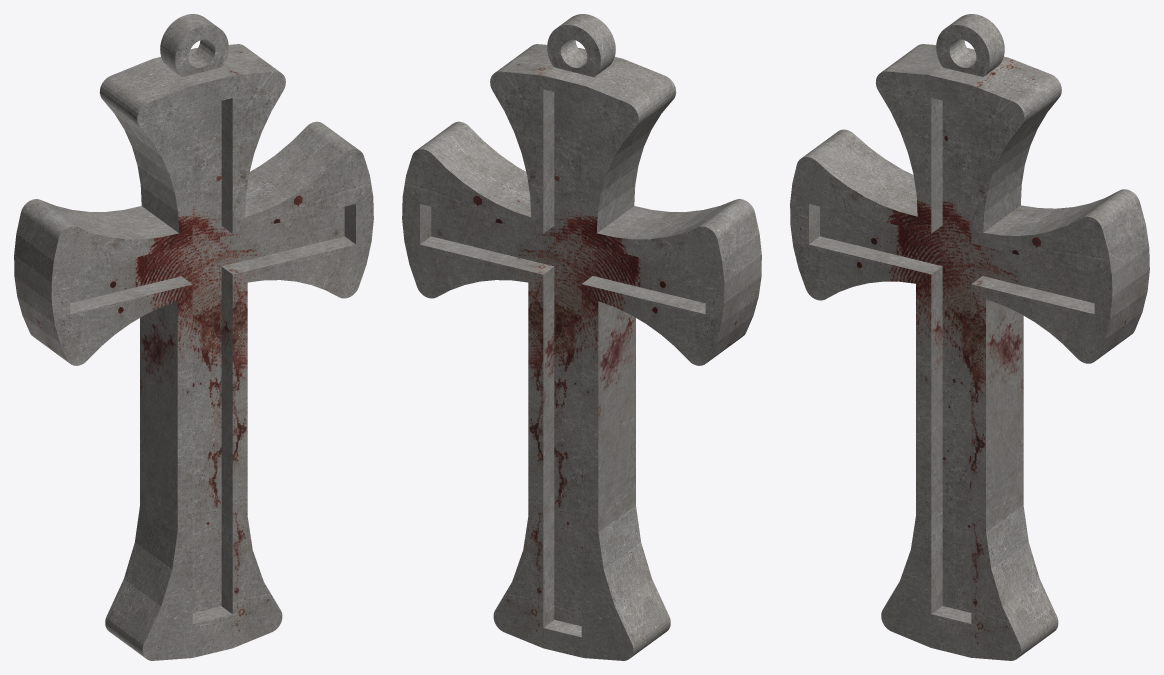
The model's file is Cross.obj.
The picture shows the model from 3 angles, left to right: view 1: azimuth 30°, elevation 25°; view 2: azimuth 150°, elevation 25°; view 3: azimuth 330°, elevation 25°; orthographic projection.
Visible parts, largest first — view 1: Sketch006; view 2: Sketch006; view 3: Sketch006.
Part boxes in pixels (x1,y1,x2,y2): Sketch006: (14, 14, 373, 660); Sketch006: (402, 14, 761, 660); Sketch006: (790, 14, 1149, 660).
Size of the model in its own units: 24.82 by 45.56 by 5.
Materials: 1 (1 with a texture image).
